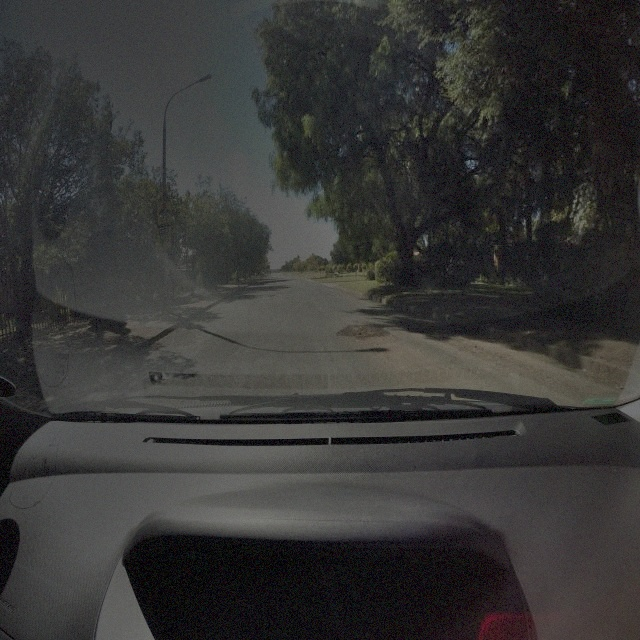pothole: (338, 323, 389, 341)
